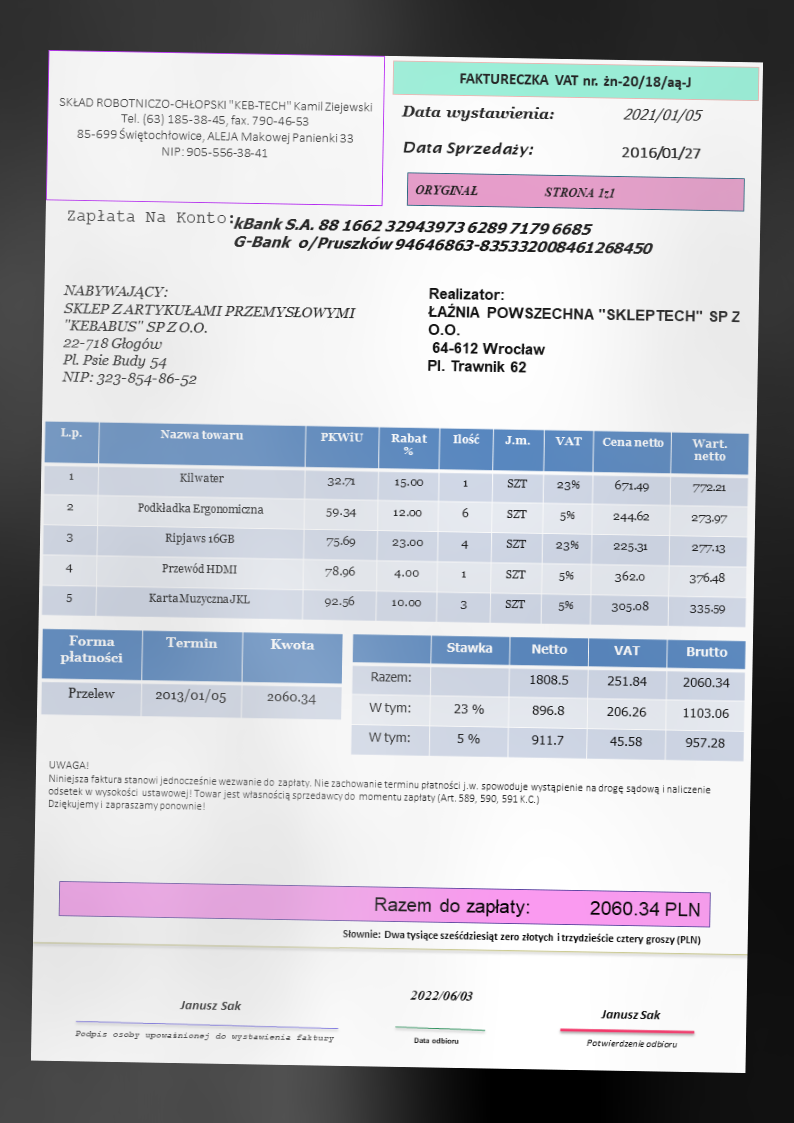Table: (40, 418, 750, 630), (349, 632, 748, 764), (40, 626, 343, 720)
TextBox: (46, 757, 714, 822), (60, 281, 360, 394), (424, 286, 746, 383), (56, 92, 376, 167), (232, 216, 657, 258), (372, 894, 702, 921), (340, 926, 705, 948), (456, 67, 694, 93), (413, 181, 619, 203), (71, 1029, 336, 1045), (399, 101, 554, 128), (64, 207, 236, 228), (399, 138, 536, 161), (622, 104, 705, 127), (619, 142, 702, 162), (176, 996, 244, 1016), (584, 1038, 680, 1050), (407, 988, 476, 1003), (598, 1007, 663, 1022), (410, 1035, 463, 1047)
